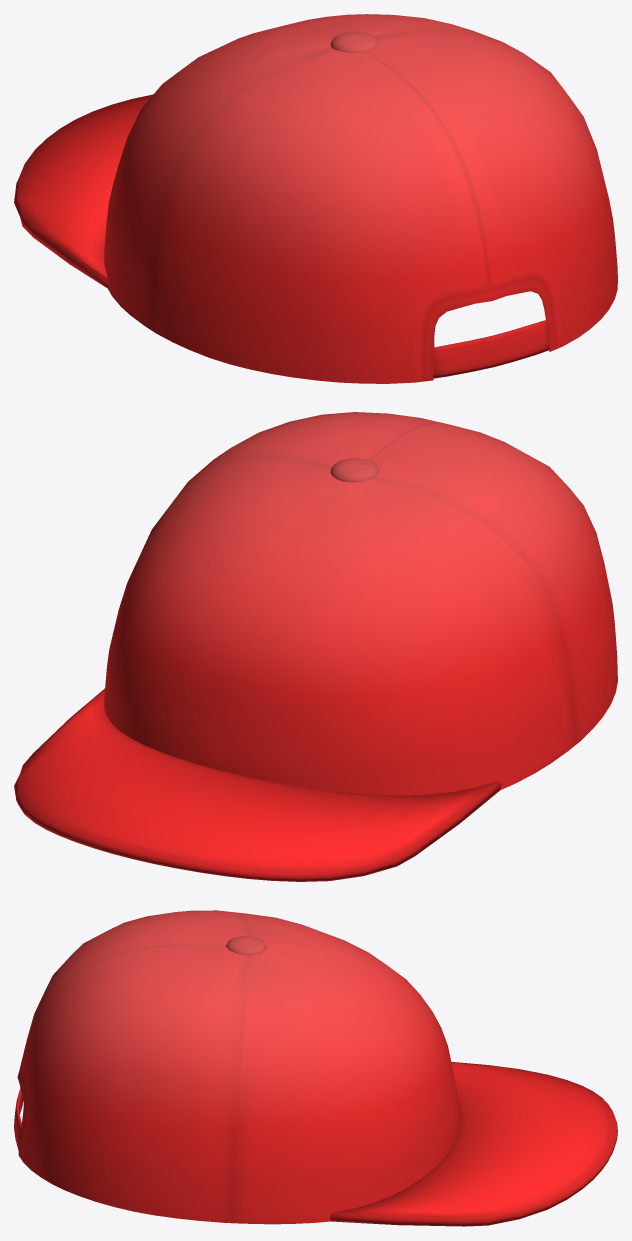
The model's file is Capred Red.fbx.
The picture shows the model from 3 angles, top to bottom: view 1: azimuth 30°, elevation 25°; view 2: azimuth 150°, elevation 25°; view 3: azimuth 270°, elevation 25°; orthographic projection. The views are drawn at different scales.
Parts seen in each view (by area): view 1: Capred Red; view 2: Capred Red; view 3: Capred Red.
Boxes of the visible parts, x1=… form: Capred Red: x1=14, y1=14, x2=617, y2=383; Capred Red: x1=14, y1=412, x2=617, y2=881; Capred Red: x1=14, y1=910, x2=617, y2=1226.
Bounding box in the file's own units: 24.49 × 13.75 × 36.16.
